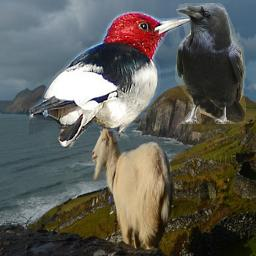Crow: (175, 3, 246, 124)
Woodpecker: (29, 11, 196, 149)
